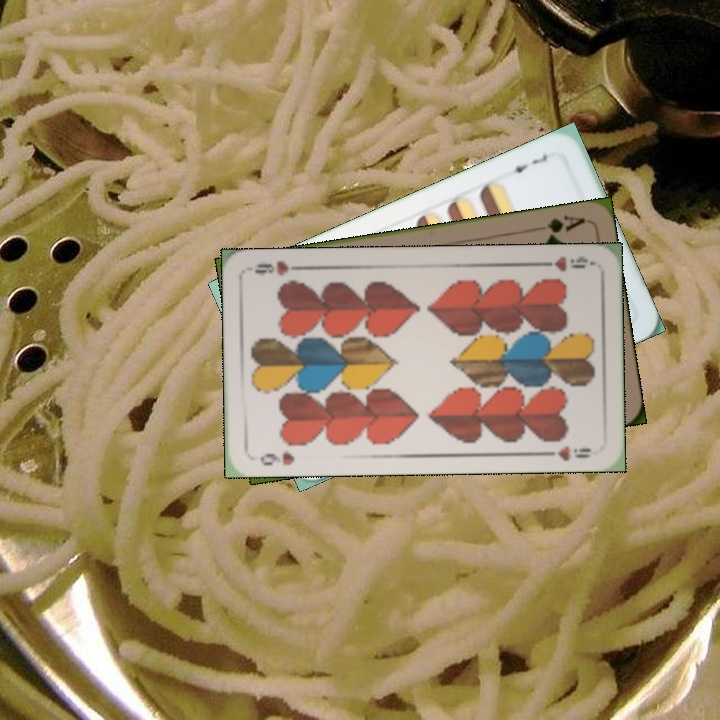E7: (503, 150, 550, 176)
GA: (529, 211, 588, 241)
H9: (537, 252, 596, 274), (257, 447, 297, 469)
